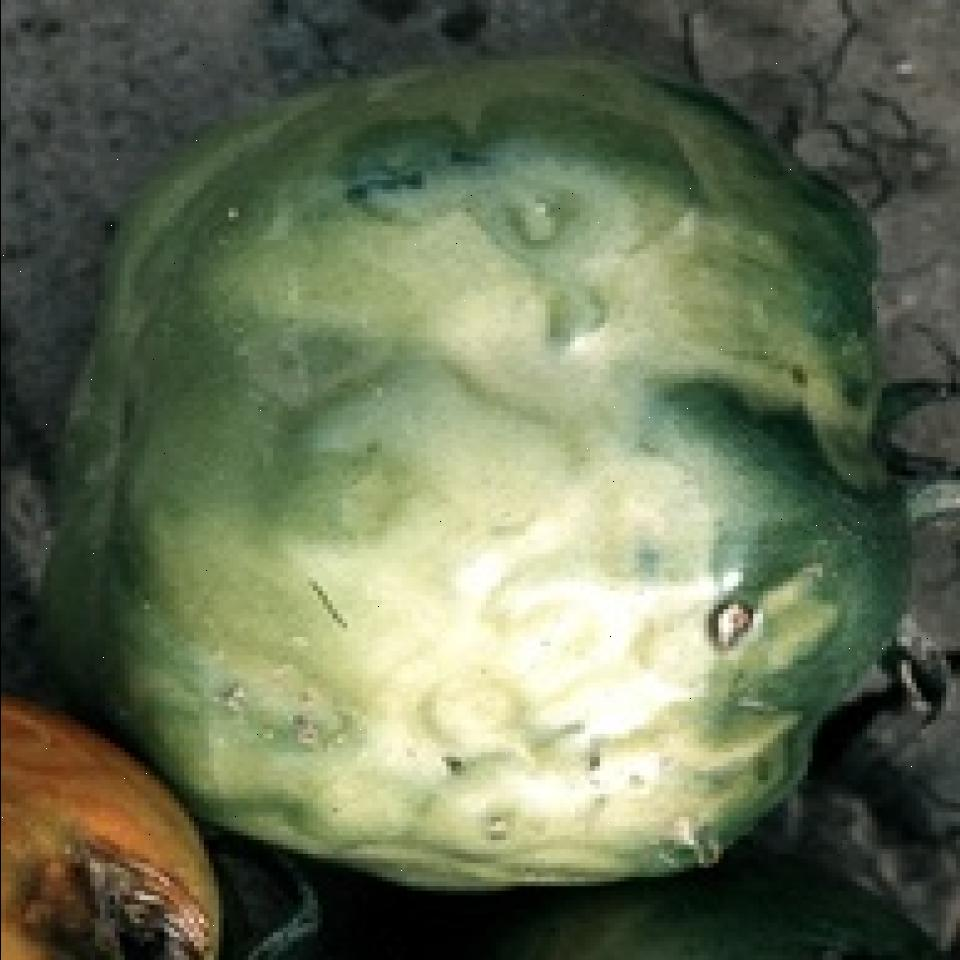Spotted wilt Virus: (35, 55, 911, 891)
